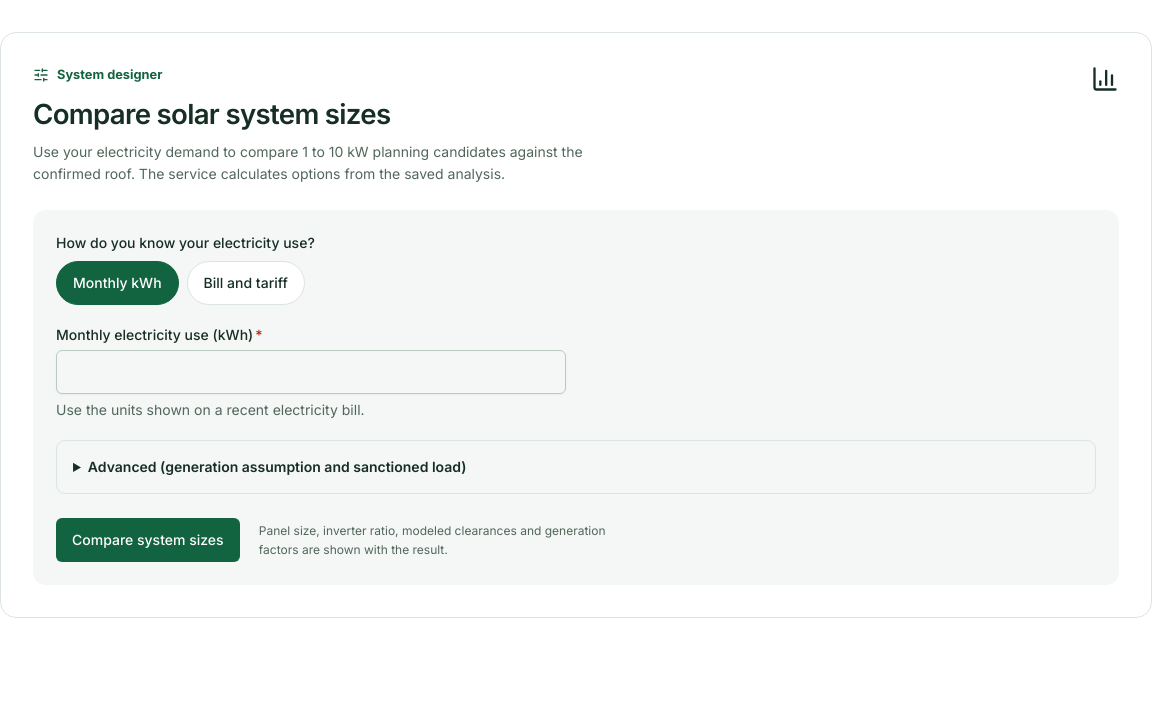
system designer › removes stale results as soon as inputs change
In the number field labelled "Monthly electricity use (kWh)": (311, 372) [56,350,566,394], type "300"
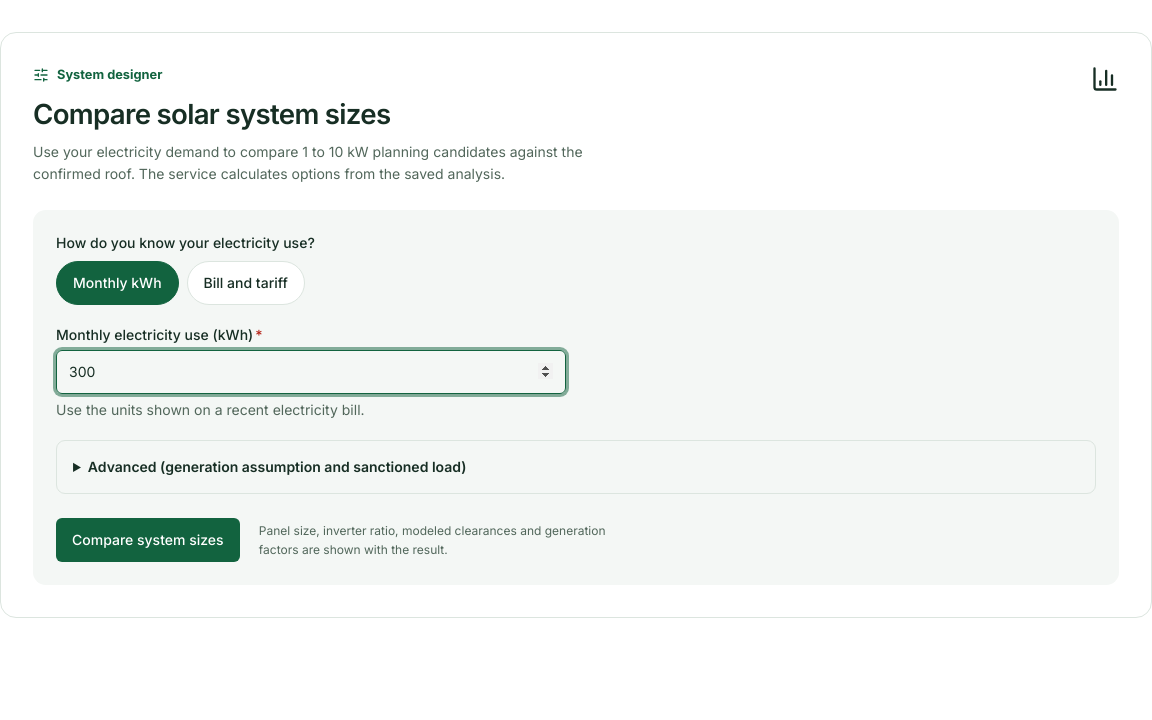
Click the button "Compare system sizes": (148, 540) [56,518,240,562]
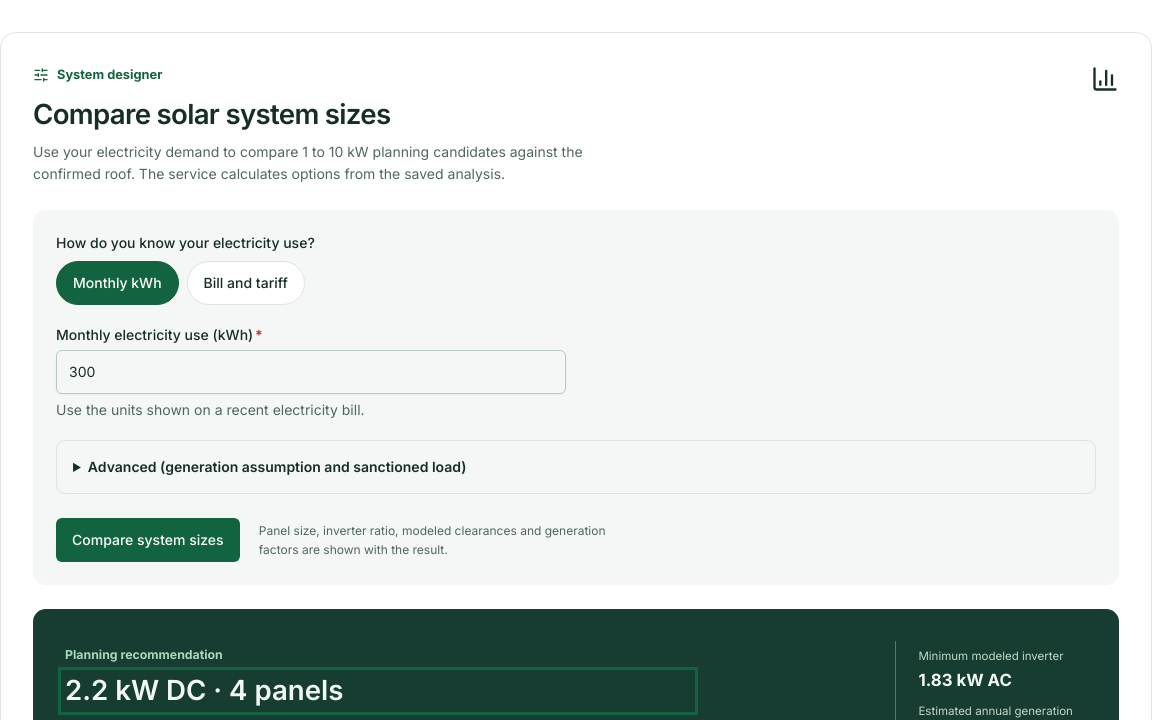
Expected: the text "Planning recommendation" is shown, [65,647,223,662]
In the number field labelled "Monthly electricity use (kWh)": (311, 372) [56,350,566,394], type "0"
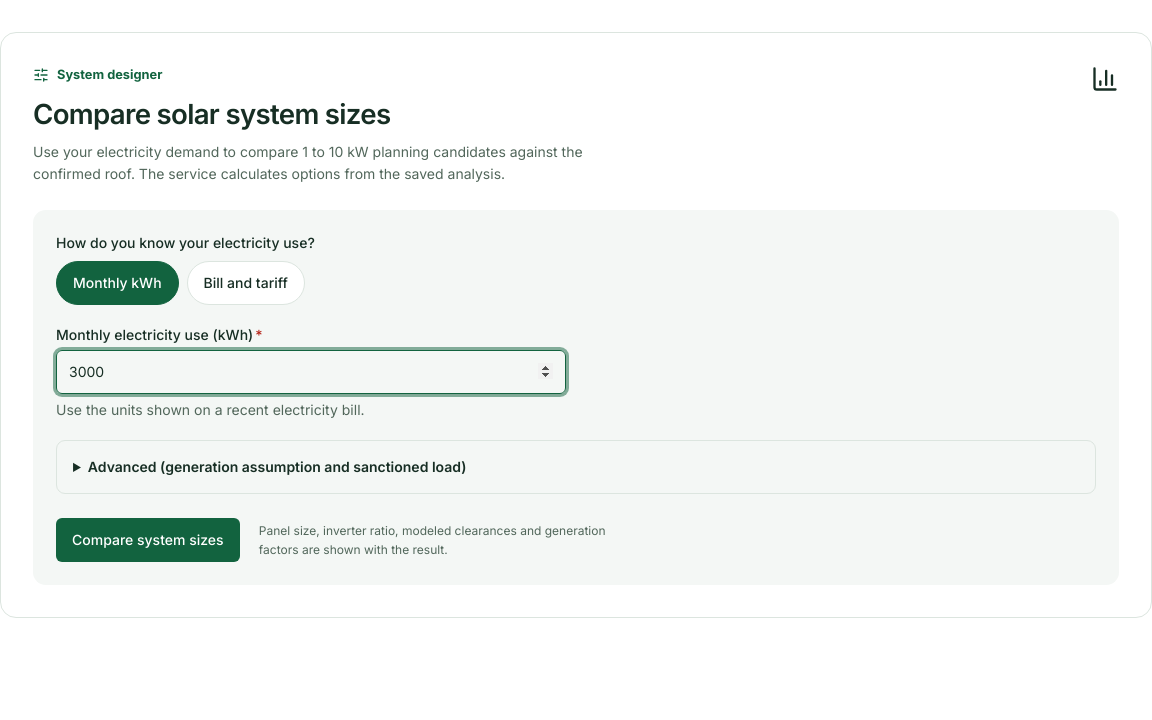
Expected: the text "Planning recommendation" is gone
